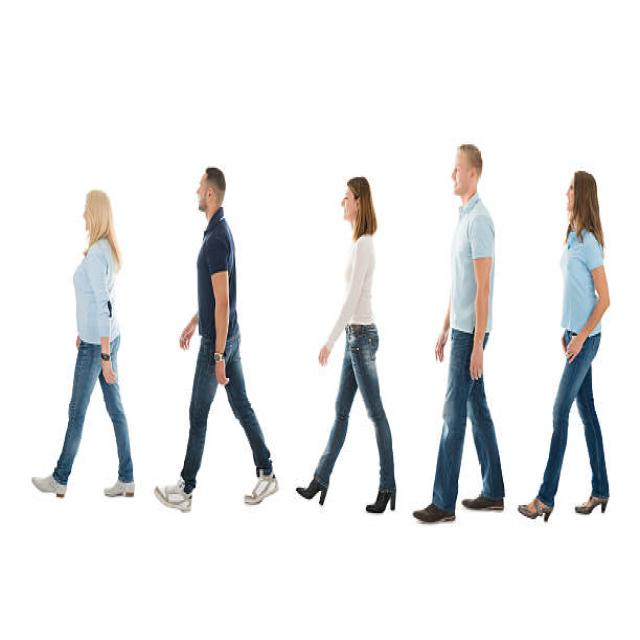Person: (154, 164, 278, 512), (413, 143, 503, 522), (295, 177, 396, 513), (517, 171, 611, 522), (30, 188, 136, 498)
